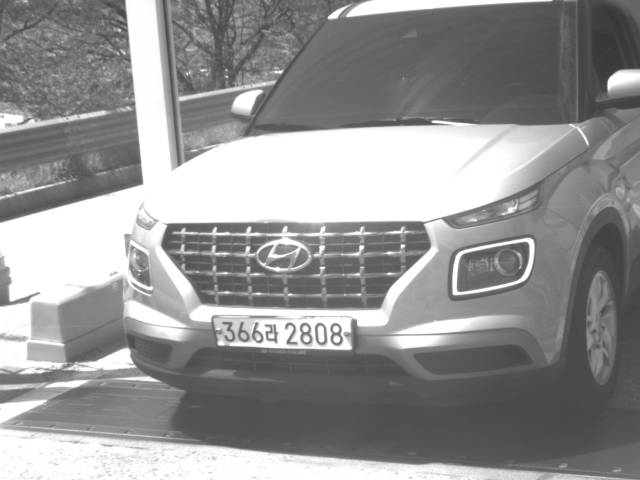car: (120, 1, 640, 421)
plate: (211, 313, 357, 354)
